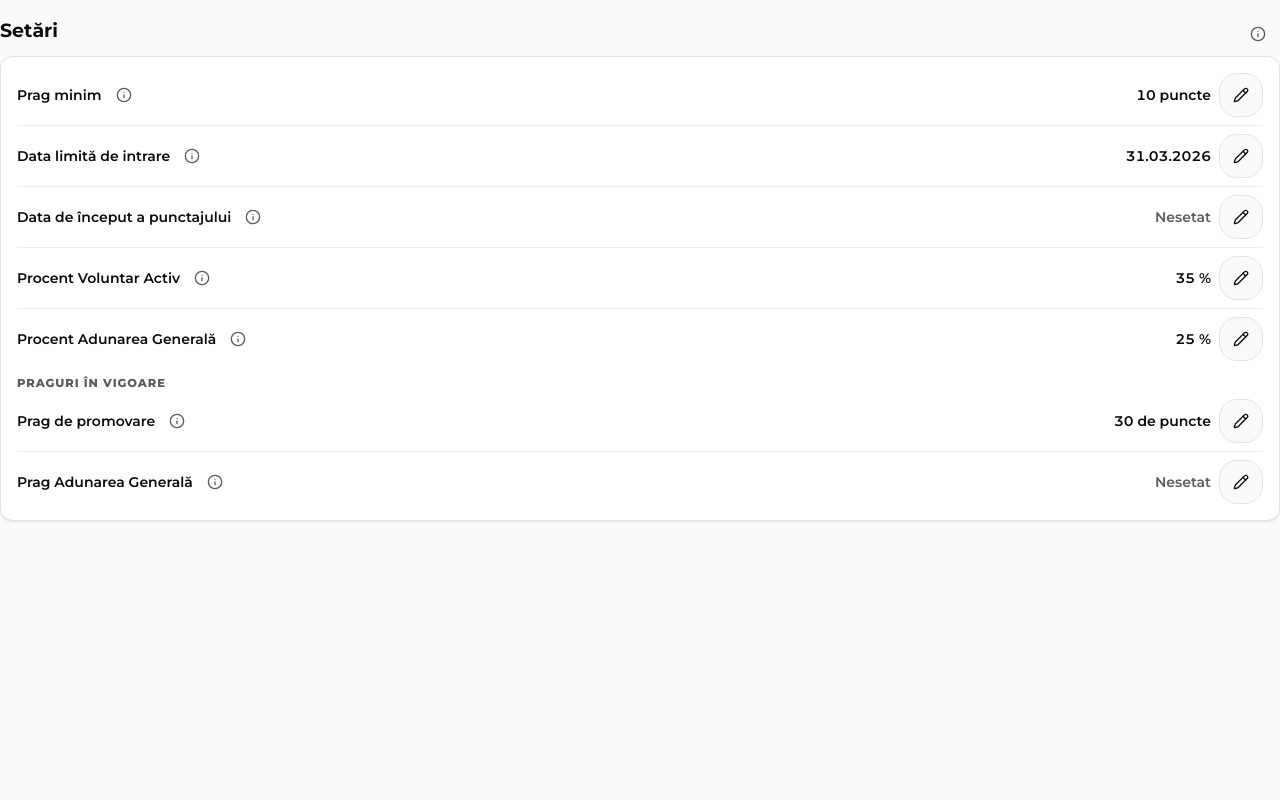
Test: says what the Data de început a punctajului changes, and what still reads older points
expect the heading "Prag minim" is shown: met, box [17,85,102,105]
Click the button named "Despre Data de început a punctajului": (253, 217) [231,195,275,239]
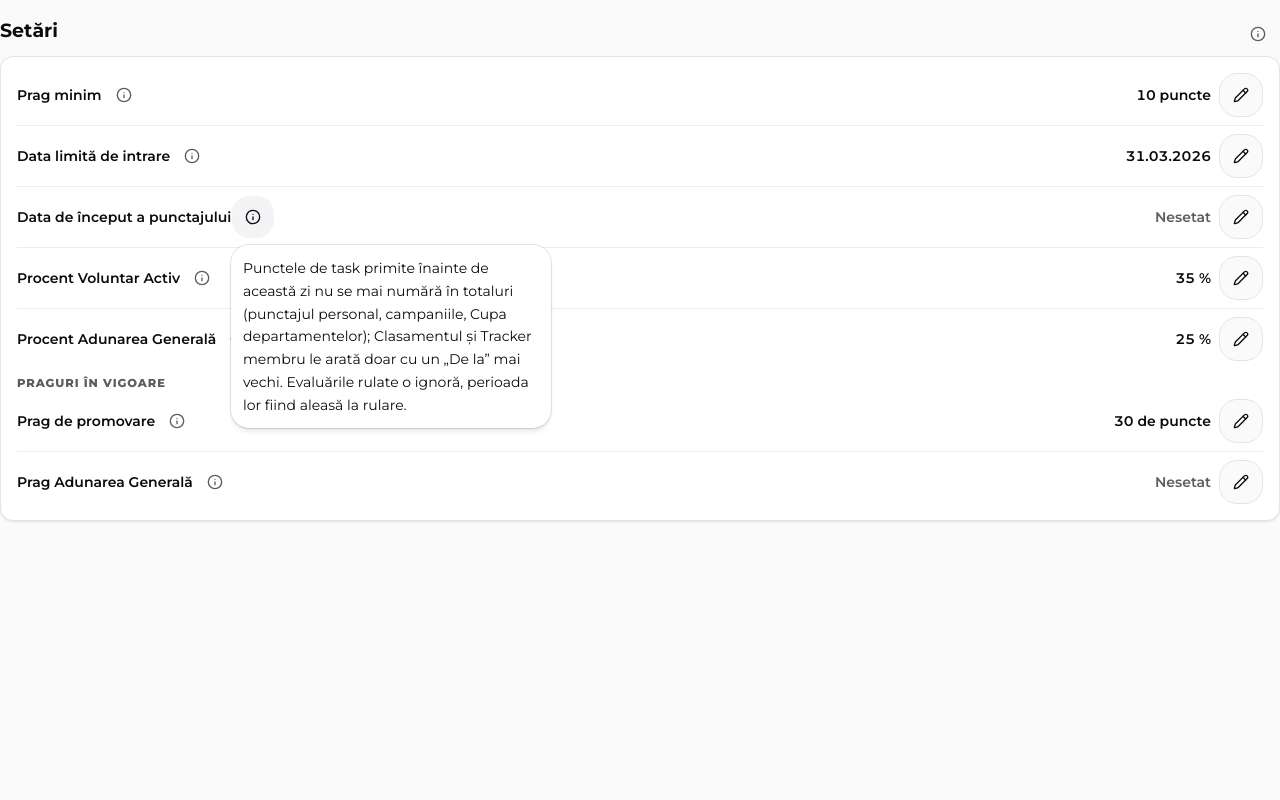
expect the text "nu se mai numără în totaluri" does not show "niciun total": met, box [231,245,551,428]
expect the text "nu se mai numără în totaluri" shows "nu se mai numără în totaluri (punctajul personal, campaniile, Cupa departamentelor); Clasamentul și Tracker membru le arată doar cu un „De la” mai vechi.": met, box [243,259,532,414]
